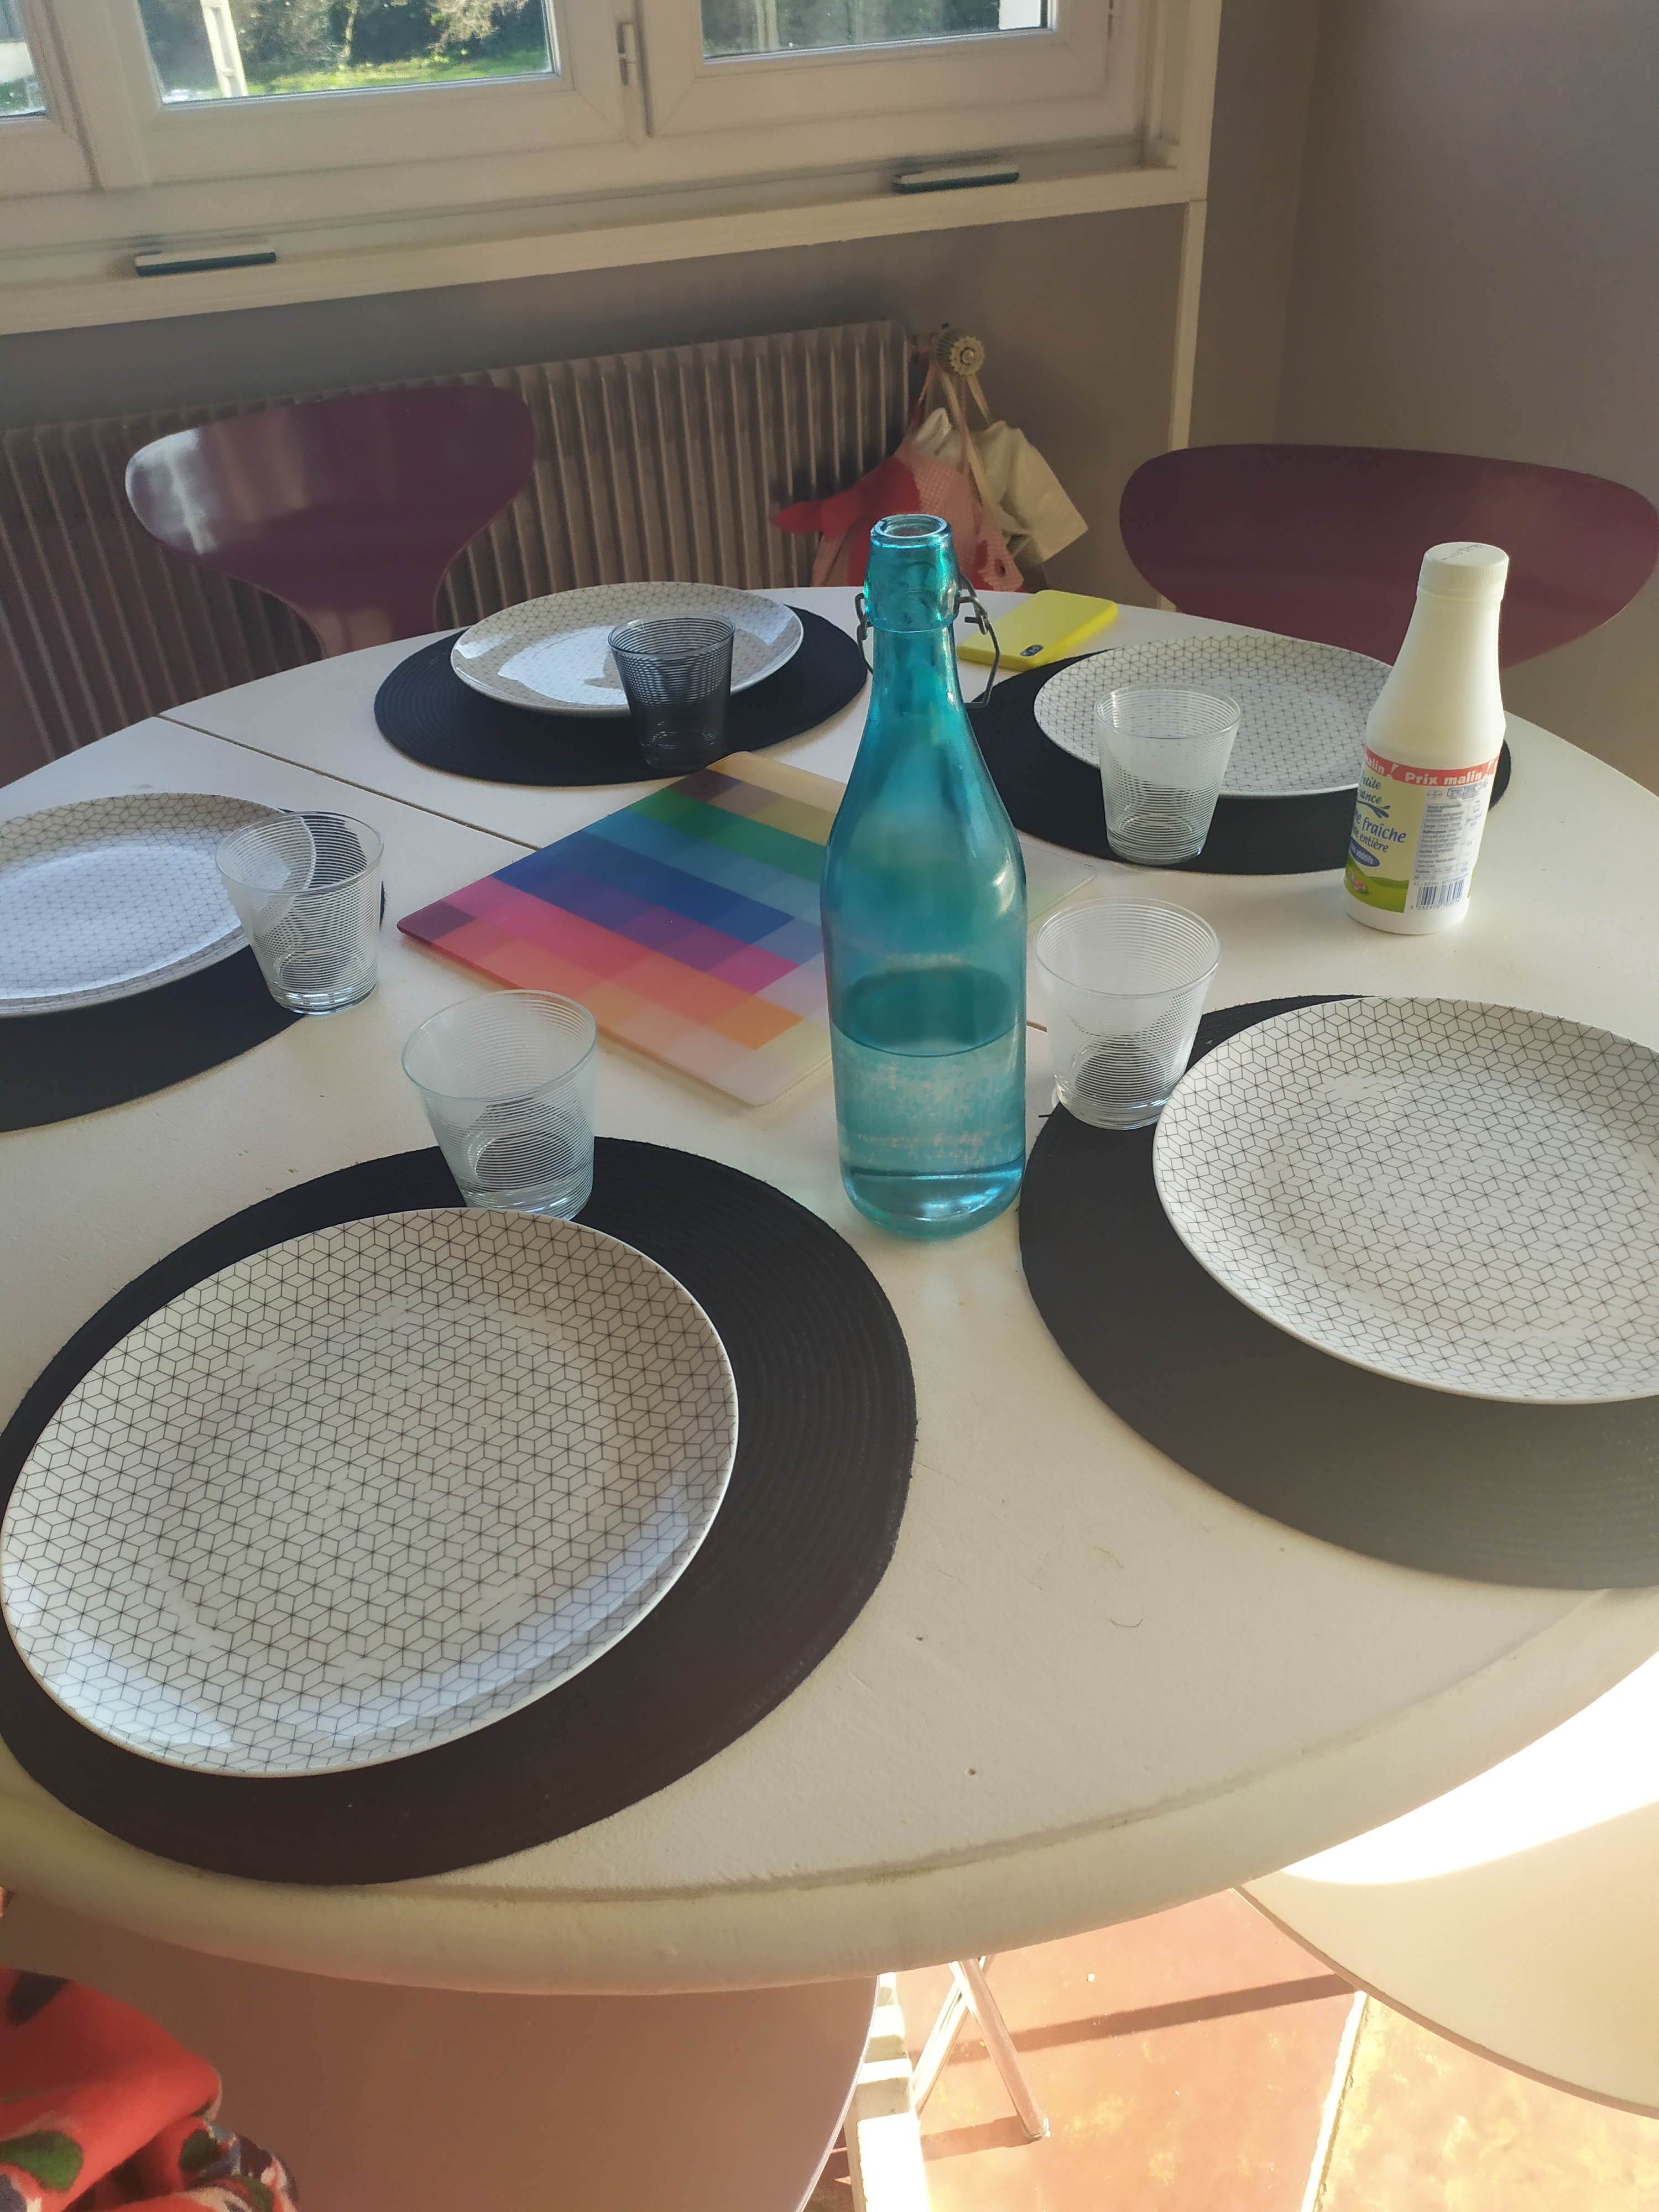bottle: (821, 512, 1028, 1240), (1340, 542, 1509, 937)
